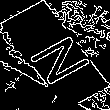N_NE: (17, 25, 93, 85)
